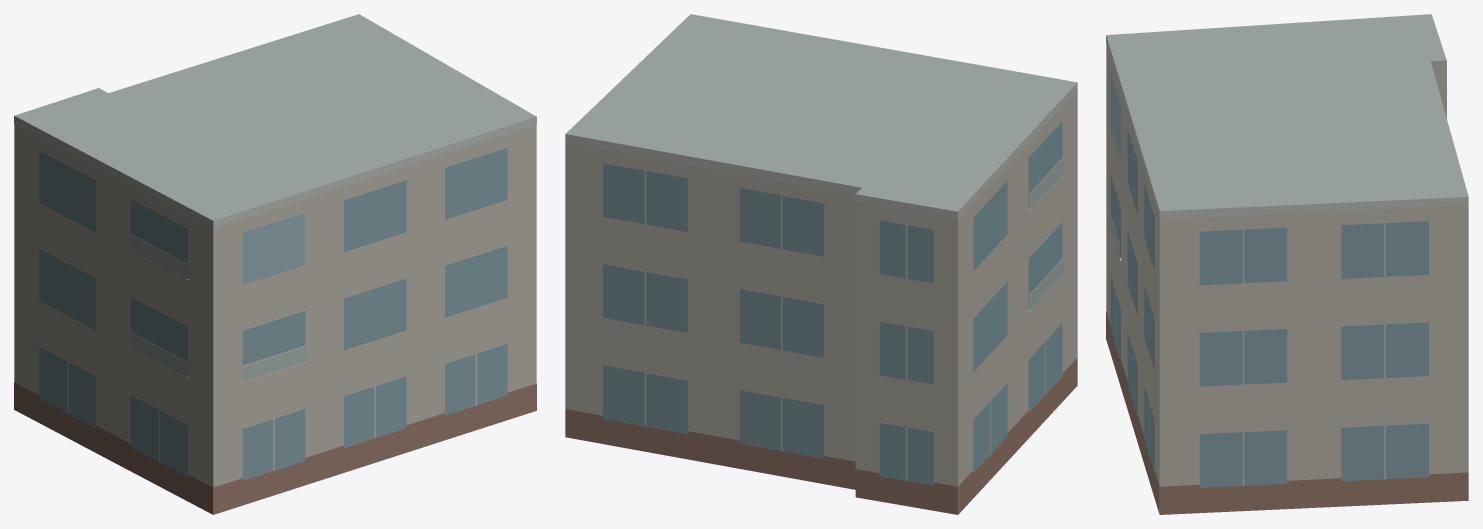
File: survey-upis-32984509.glb
3 views of the same model, side by side, from view 1: azimuth 30°, elevation 25°; view 2: azimuth 150°, elevation 25°; view 3: azimuth 270°, elevation 25° (orthographic). The views are drawn at different scales.
Visible parts, largest first — view 1: survey-upis-32984509.tmp; view 2: survey-upis-32984509.tmp; view 3: survey-upis-32984509.tmp.
Boxes of the visible parts, x1=… form: survey-upis-32984509.tmp: x1=14, y1=14, x2=536, y2=514; survey-upis-32984509.tmp: x1=565, y1=14, x2=1077, y2=514; survey-upis-32984509.tmp: x1=1106, y1=14, x2=1468, y2=514.
Bounding box in the file's own units: 12.74 × 9.15 × 9.91.
